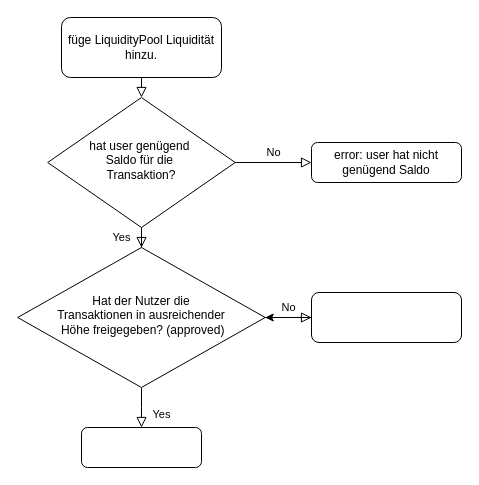
Some shapes in this 479 by 485 pixel diagram are drawn without their labels. The box of each missing label's shape, as (x1, y1, x2, y2) in pixels:
error: user hat die transaktion nicht erlaubt.: (310, 292, 462, 342)
rufe addLiquidity auf dex contract auf.: (80, 426, 202, 468)
